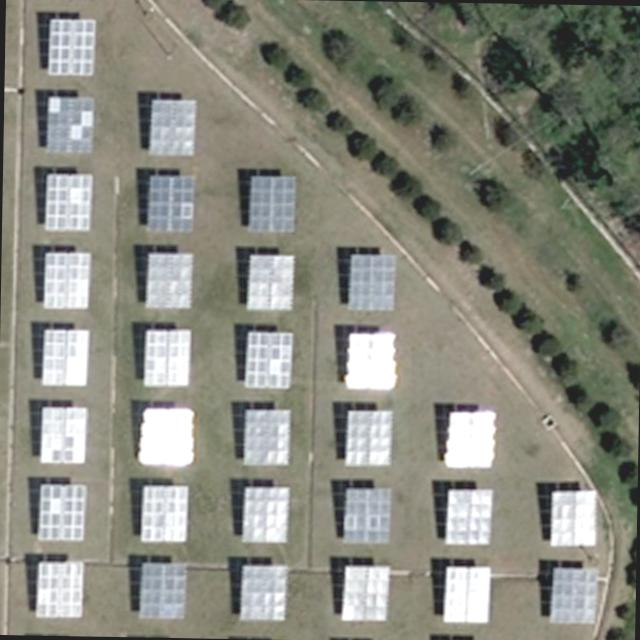solar: (44, 13, 100, 78), (42, 93, 98, 157), (37, 326, 91, 392), (442, 409, 498, 469), (36, 403, 90, 465), (344, 330, 399, 390), (438, 564, 492, 625), (146, 94, 196, 159), (547, 564, 602, 623), (140, 407, 193, 468), (345, 250, 395, 314), (33, 559, 86, 619), (36, 482, 87, 544), (245, 250, 295, 312), (240, 408, 292, 467), (43, 249, 92, 311), (142, 172, 194, 230), (549, 488, 596, 552), (344, 408, 394, 468), (247, 173, 296, 234), (139, 485, 188, 545), (240, 484, 289, 544), (144, 253, 195, 310), (139, 560, 188, 619), (241, 330, 289, 390), (443, 485, 491, 545), (342, 488, 391, 546), (238, 562, 287, 620), (340, 564, 388, 622), (44, 173, 90, 232), (144, 327, 187, 388)
